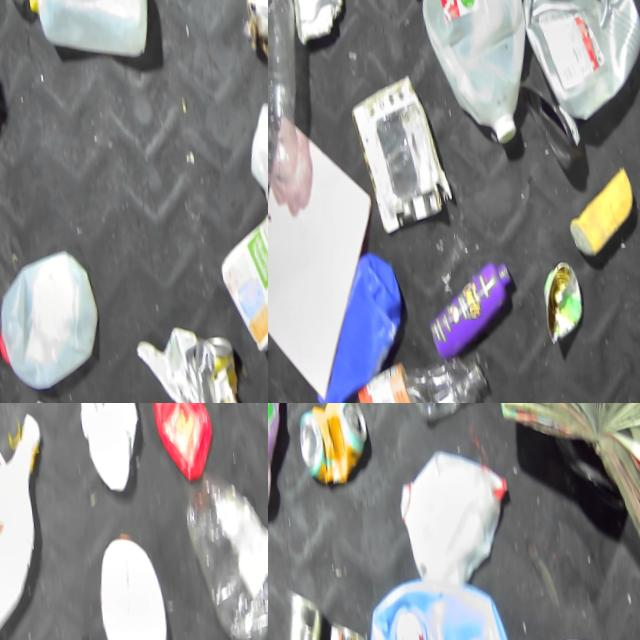can: (289, 403, 371, 492), (530, 260, 579, 347), (268, 585, 328, 640), (308, 616, 371, 640)
milk_jug: (404, 0, 537, 153), (387, 445, 515, 591), (0, 245, 98, 393), (14, 0, 154, 69), (234, 94, 268, 296), (179, 333, 232, 403)
non_white_jug: (288, 247, 407, 403), (513, 0, 640, 130), (345, 569, 523, 640)
plastic_bottle: (172, 470, 268, 640), (268, 0, 312, 189), (337, 352, 491, 403)
